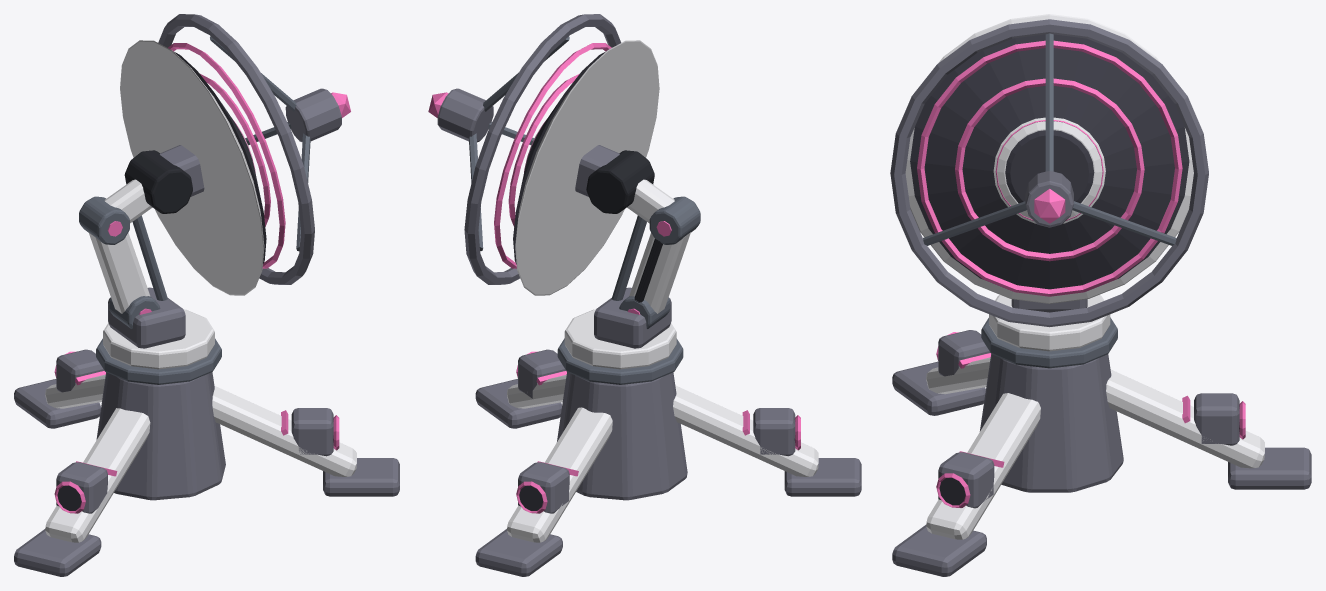
Rendered from torreta_sonica.glb.
3 views of the same model, side by side, from view 1: azimuth 30°, elevation 25°; view 2: azimuth 150°, elevation 25°; view 3: azimuth 270°, elevation 25° (orthographic). The views are drawn at different scales.
Visible parts, largest first — view 1: Base, Barrel, Pivot; view 2: Base, Barrel, Pivot; view 3: Barrel, Base, Pivot.
Part boxes in pixels (<box>): Base: <box>14,338,399,576</box>; Barrel: <box>120,14,350,295</box>; Pivot: <box>79,179,214,369</box>; Base: <box>475,338,861,576</box>; Barrel: <box>428,14,659,295</box>; Pivot: <box>564,179,700,369</box>; Barrel: <box>890,14,1208,327</box>; Base: <box>892,317,1311,576</box>; Pivot: <box>989,295,1110,351</box>.
Bounding box in the file's own units: 3.17 × 3.55 × 2.77.
Materials: 1 (1 with a texture image).
